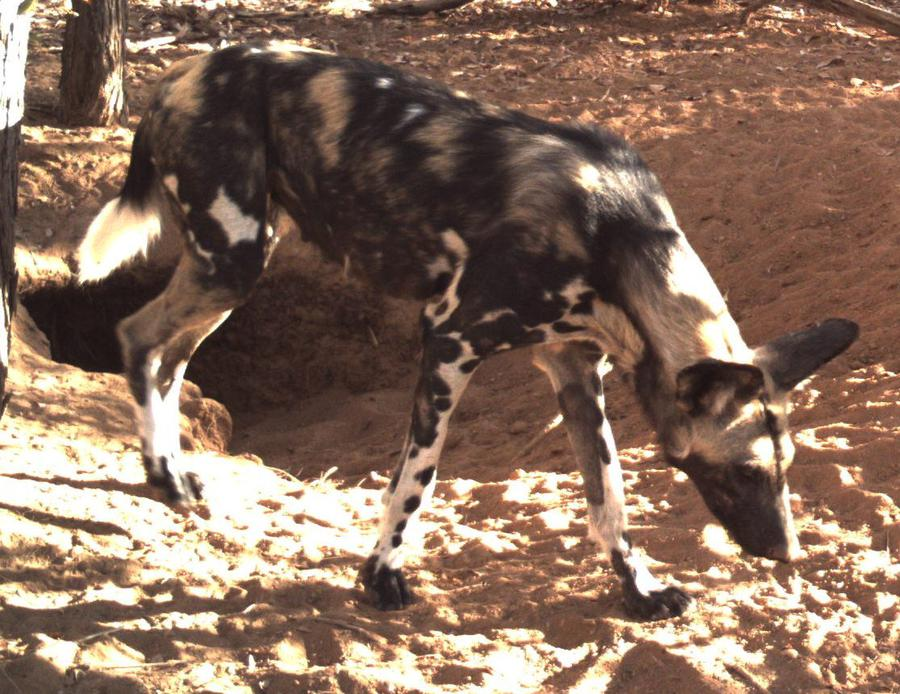wilddog: (1, 1, 900, 694)
